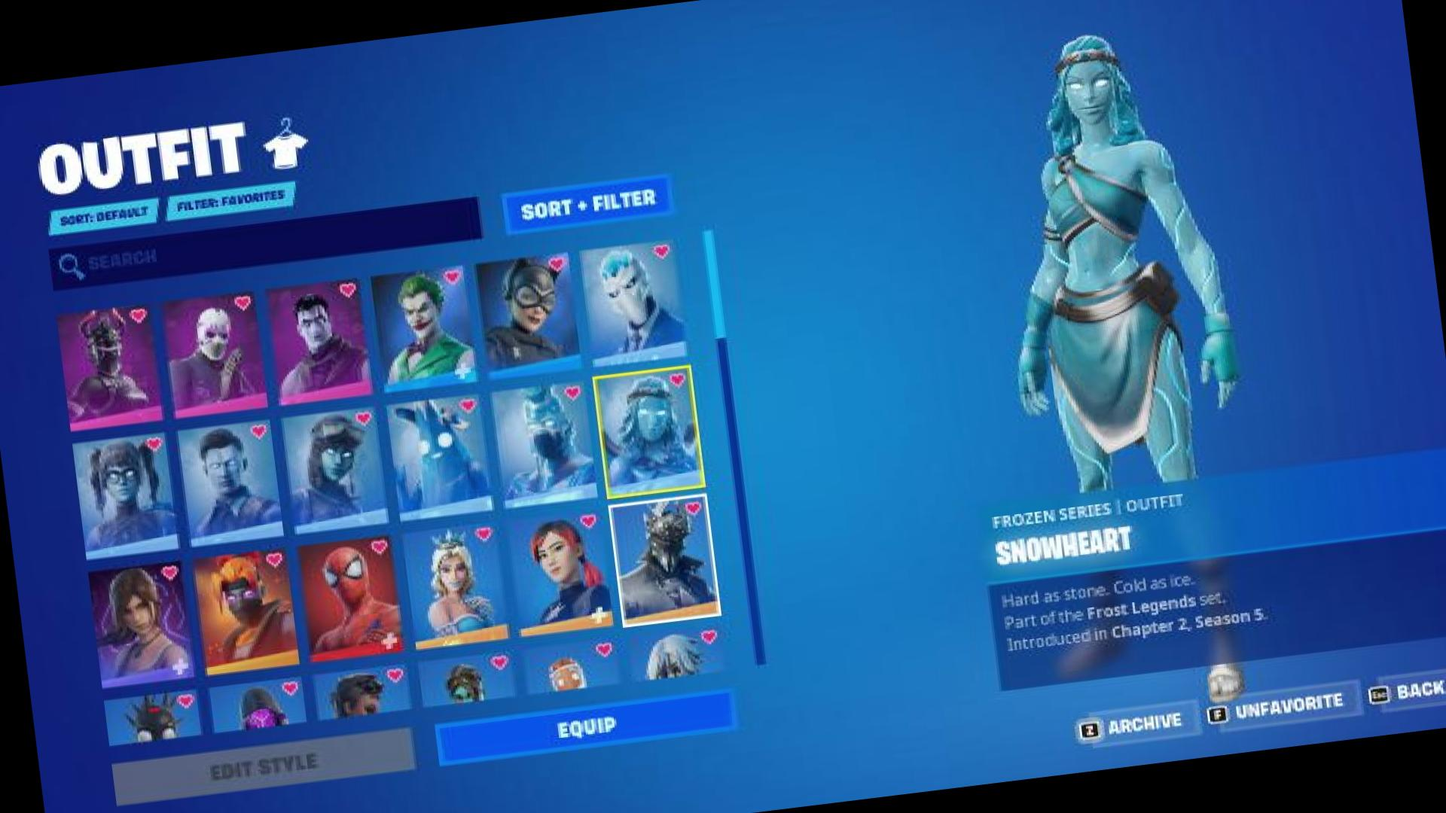player: (967, 10, 1284, 722)
